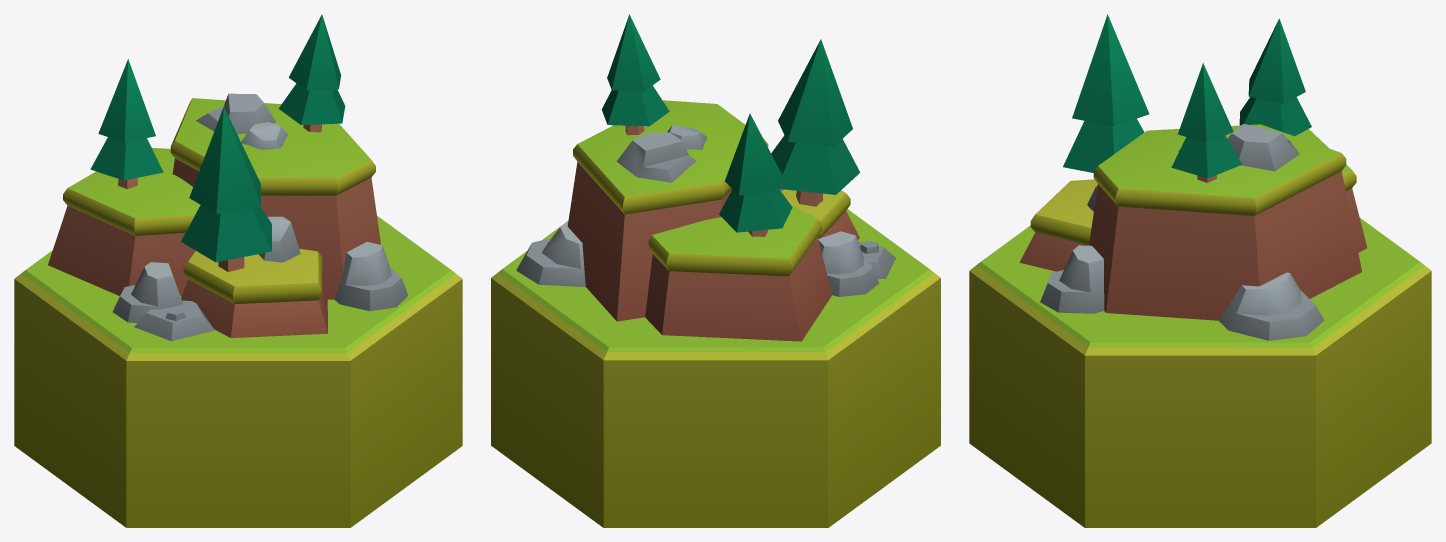
Rendered from hex_hills_a_trees.glb.
The picture shows the model from 3 angles, left to right: view 1: azimuth 30°, elevation 25°; view 2: azimuth 150°, elevation 25°; view 3: azimuth 270°, elevation 25°; orthographic projection. The views are drawn at different scales.
Visible parts, largest first — view 1: hex_hills_a_trees; view 2: hex_hills_a_trees; view 3: hex_hills_a_trees.
Part boxes in pixels (x1,y1,x2,y2): hex_hills_a_trees: (14,14,462,527); hex_hills_a_trees: (491,14,940,527); hex_hills_a_trees: (969,14,1431,527).
Bounding box in the file's own units: 1 × 1.17 × 1.15.
1 material, 1 textured.
